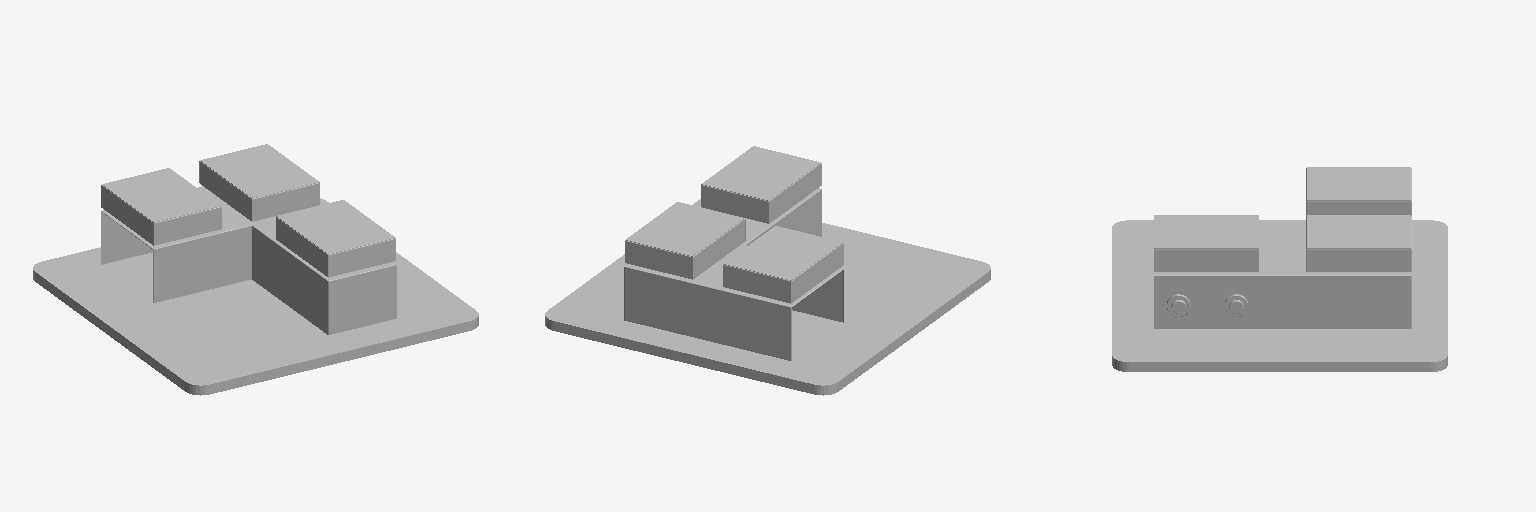
The model's file is right.old.obj.
3 renders of one model, left to right at view 1: azimuth 30°, elevation 25°; view 2: azimuth 150°, elevation 25°; view 3: azimuth 270°, elevation 25°, orthographic.
Visible parts, largest first — view 1: 右下主体, 右下主体物底座; view 2: 右下主体, 右下主体物底座; view 3: 右下主体, 右下主体物底座.
Part boxes in pixels (x1,y1,x2,y2): 右下主体: (101, 144, 396, 334); 右下主体物底座: (33, 198, 478, 395); 右下主体: (624, 146, 843, 360); 右下主体物底座: (545, 199, 990, 395); 右下主体: (1154, 167, 1411, 328); 右下主体物底座: (1112, 220, 1447, 371).
Size of the model in its own units: 132 by 39.13 by 132.